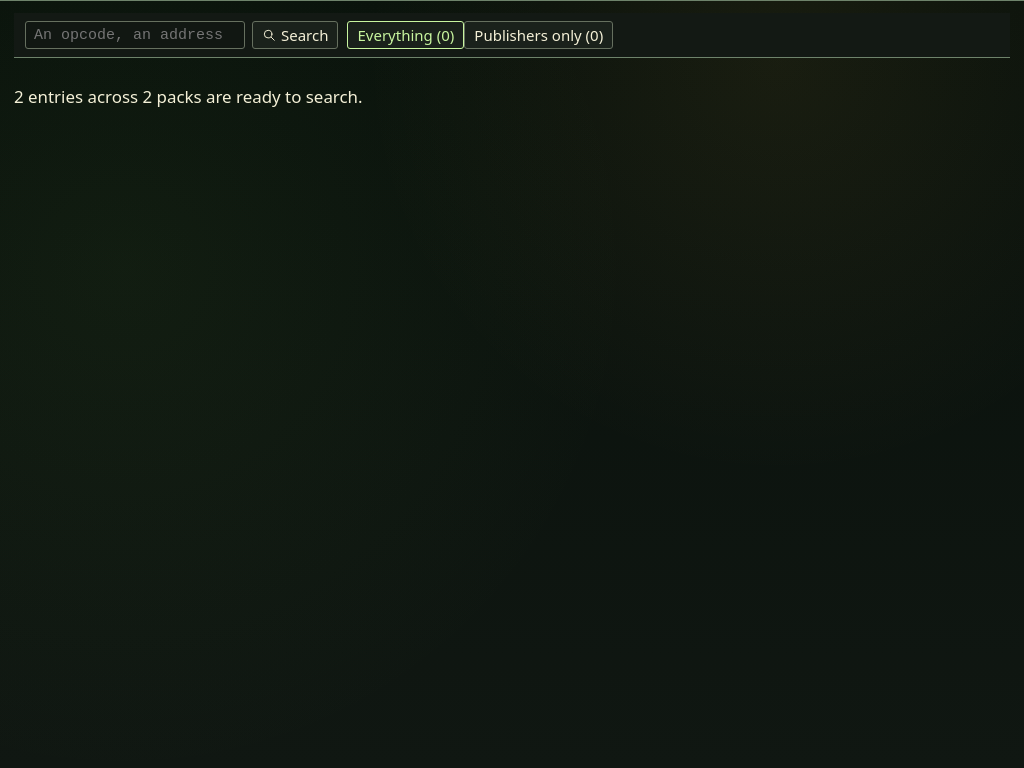
Test: being told what you are reading › shows the caveat on a community entry when it is opened
Type "OSWRCH" into the search field named "Search imported documentation".
click(135, 35); type("OSWRCH")  # box [25,21,245,49]
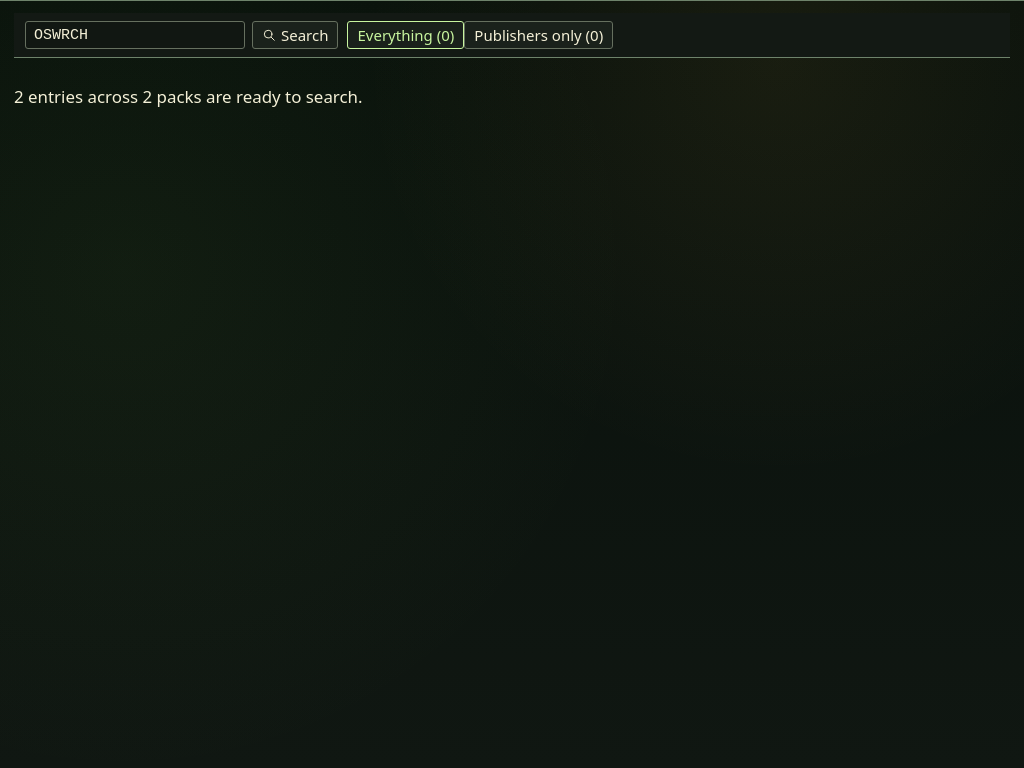
Submit the form, box [25,21,338,49]
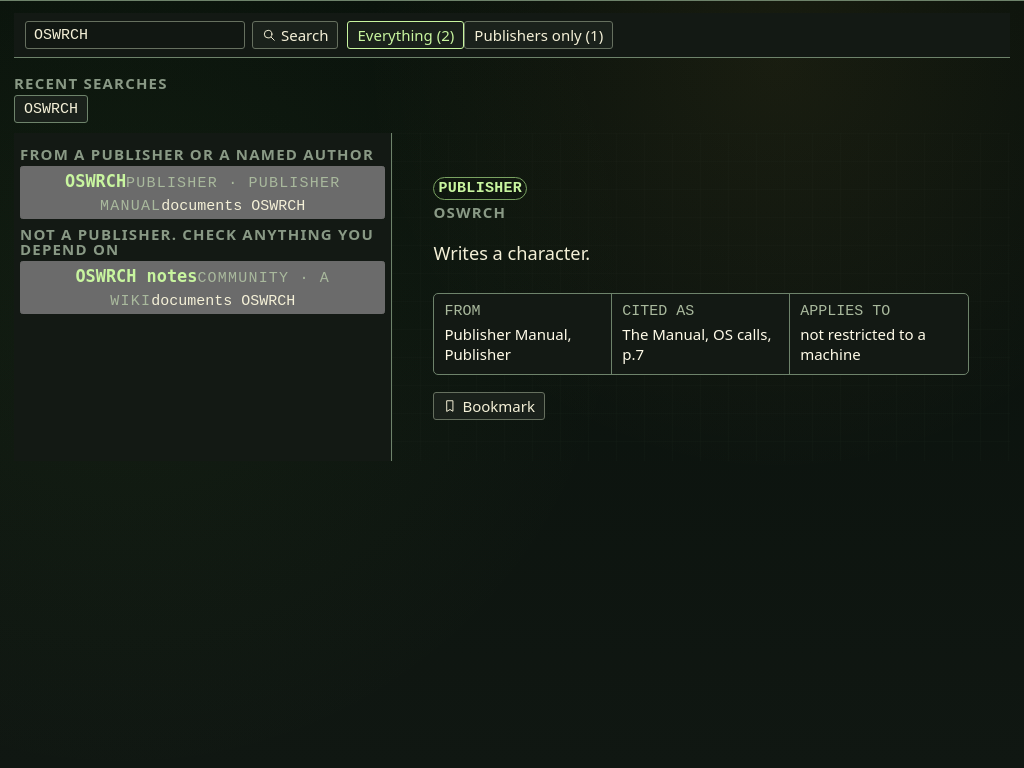
Click the text "OSWRCH notes".
click(136, 276)  # box [75,266,197,286]
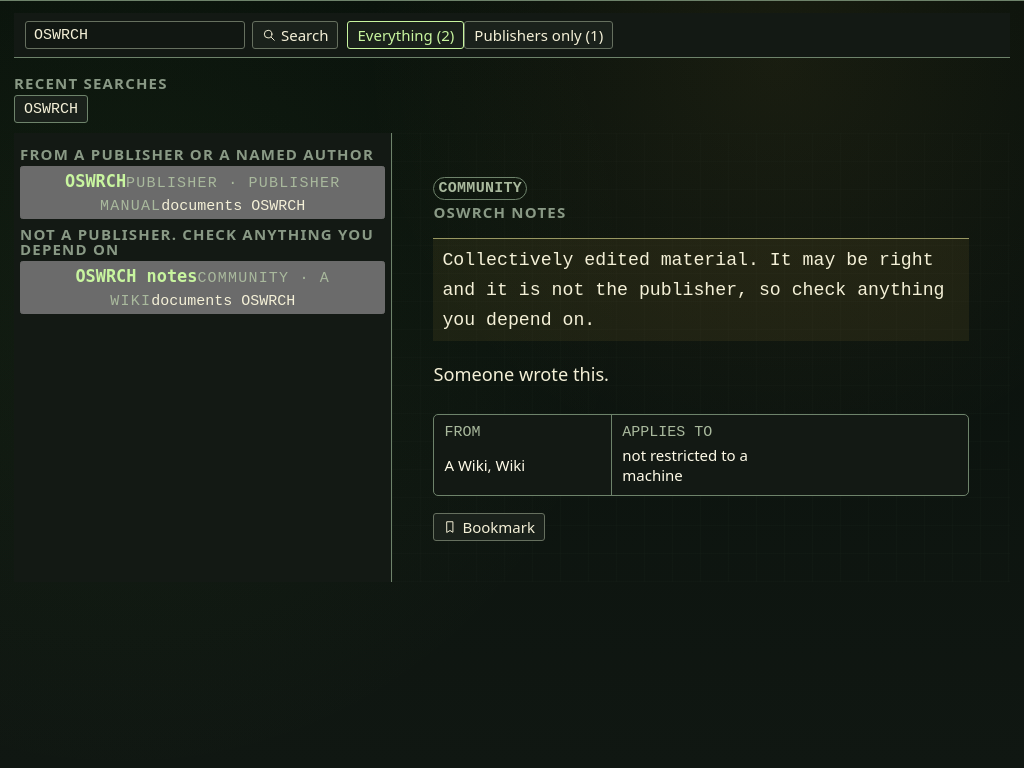
Expected: the text "check anything you depend on" is shown, [442,250,944,330]
